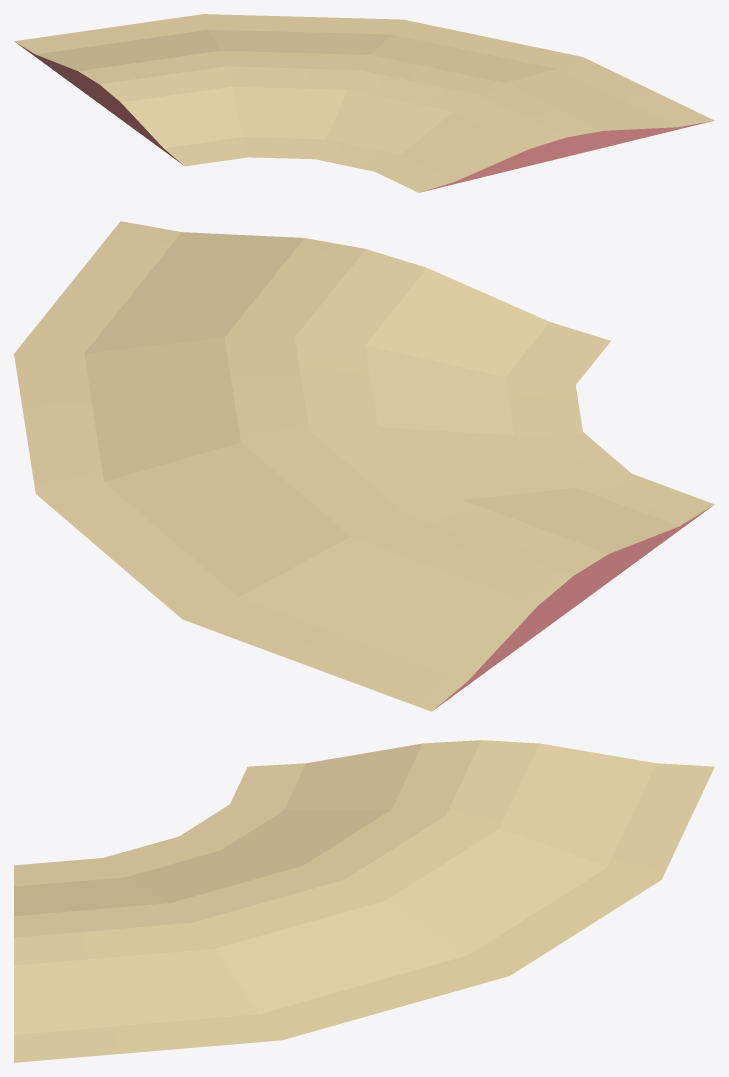
File: Terrain_Sand_Incline_Curve_Both_12x12.glb
3 renders of one model, top to bottom at view 1: azimuth 30°, elevation 25°; view 2: azimuth 150°, elevation 25°; view 3: azimuth 270°, elevation 25°, orthographic. The views are drawn at different scales.
Parts seen in each view (by area): view 1: Terrain_Sand_Incline_Curve_Both_12x12; view 2: Terrain_Sand_Incline_Curve_Both_12x12; view 3: Terrain_Sand_Incline_Curve_Both_12x12.
Boxes of the visible parts, bbox=[...] form: Terrain_Sand_Incline_Curve_Both_12x12: bbox=[14, 14, 714, 192]; Terrain_Sand_Incline_Curve_Both_12x12: bbox=[14, 221, 714, 711]; Terrain_Sand_Incline_Curve_Both_12x12: bbox=[14, 740, 714, 1062].
Bounding box in the file's own units: 1200 × 50 × 1200.
